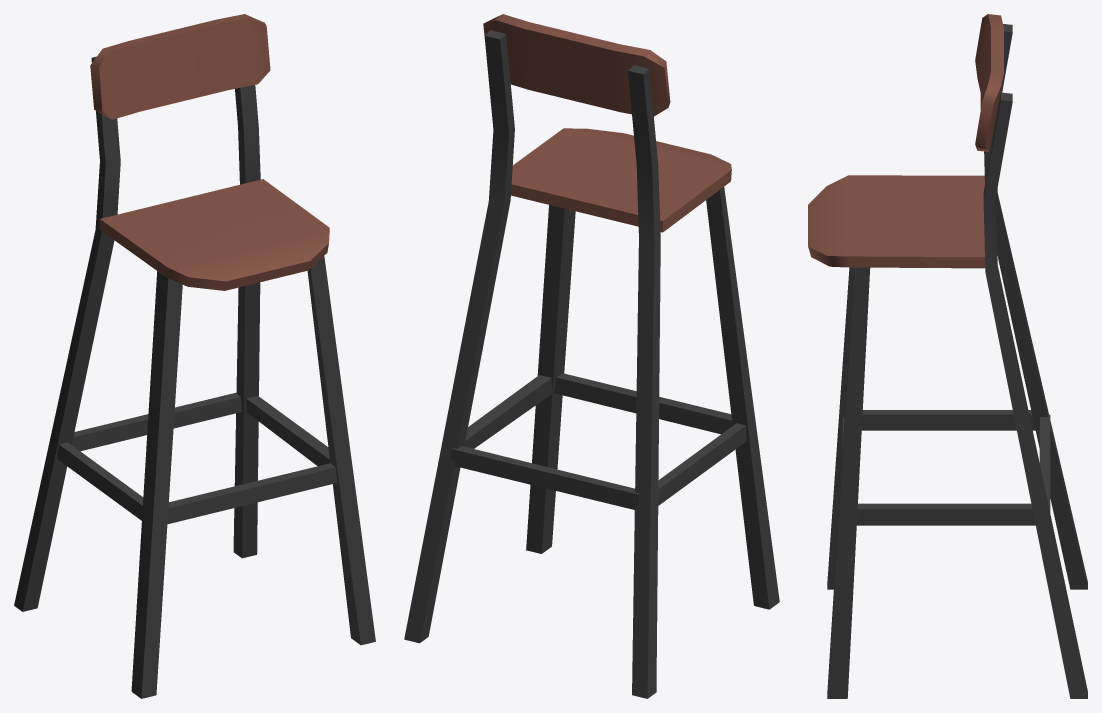
Rendered from kitchen_chair_001.glb.
3 views of the same model, side by side, from view 1: azimuth 30°, elevation 25°; view 2: azimuth 150°, elevation 25°; view 3: azimuth 270°, elevation 25° (orthographic). The views are drawn at different scales.
Parts seen in each view (by area): view 1: kitchen_chair_001; view 2: kitchen_chair_001; view 3: kitchen_chair_001.
Boxes of the visible parts, bbox=[...] form: kitchen_chair_001: bbox=[14, 14, 375, 698]; kitchen_chair_001: bbox=[404, 14, 779, 698]; kitchen_chair_001: bbox=[808, 14, 1087, 698].
Bounding box in the file's own units: 0.4919 × 1.16 × 0.4973.
1 material, 1 textured.
